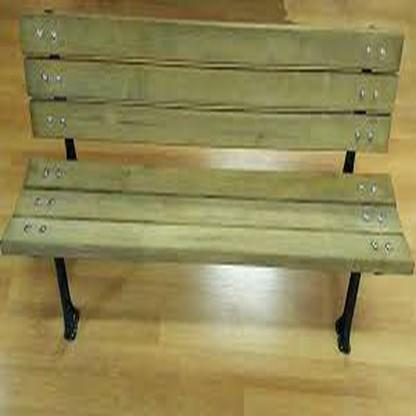obstacle: (10, 10, 412, 367)
